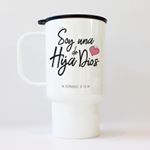cups: (14, 10, 112, 143)
